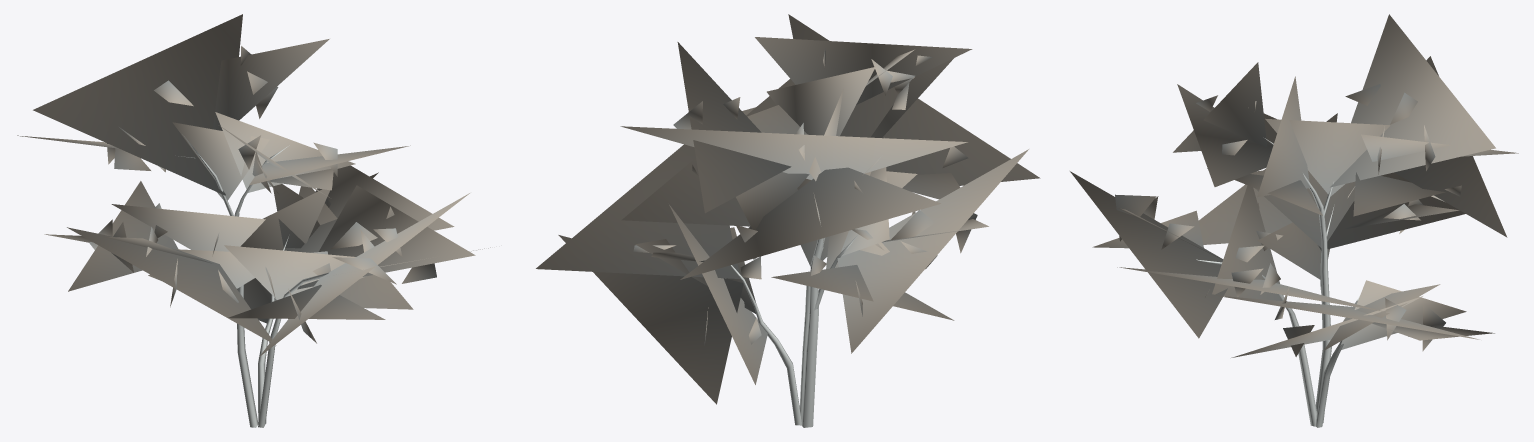
The picture shows the model from 3 angles, left to right: view 1: azimuth 30°, elevation 25°; view 2: azimuth 150°, elevation 25°; view 3: azimuth 270°, elevation 25°; orthographic projection. The views are drawn at different scales.
Parts seen in each view (by area): view 1: G:\FFXIV-MapTools\exports\f1f4\bg\ffxiv\fst_f1\fld\f1f4\bgpa (×2); view 2: G:\FFXIV-MapTools\exports\f1f4\bg\ffxiv\fst_f1\fld\f1f4\bgpa (×2); view 3: G:\FFXIV-MapTools\exports\f1f4\bg\ffxiv\fst_f1\fld\f1f4\bgpa (×2).
Part boxes in pixels (box(x1,y1,x2,y2)): G:\FFXIV-MapTools\exports\f1f4\bg\ffxiv\fst_f1\fld\f1f4\bgpa (×2): box(17, 14, 490, 427); G:\FFXIV-MapTools\exports\f1f4\bg\ffxiv\fst_f1\fld\f1f4\bgpa (×2): box(536, 14, 1040, 427); G:\FFXIV-MapTools\exports\f1f4\bg\ffxiv\fst_f1\fld\f1f4\bgpa (×2): box(1070, 14, 1518, 427).
Size of the model in its own units: 5.04 by 4.46 by 5.44.
